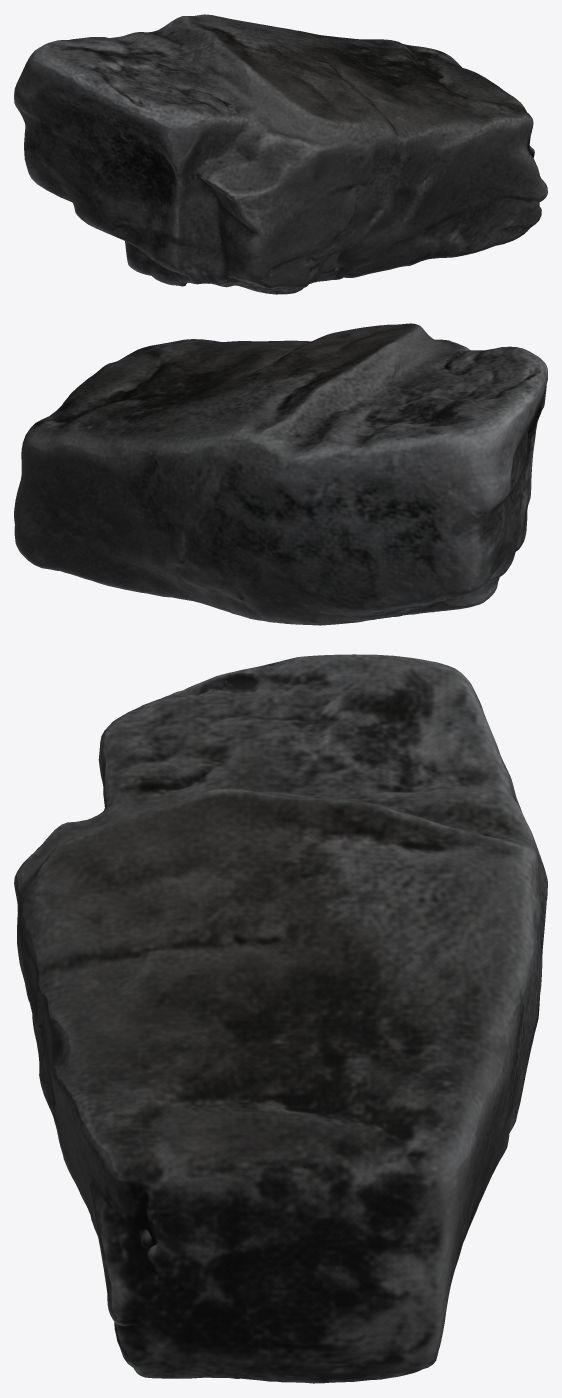
The picture shows the model from 3 angles, top to bottom: view 1: azimuth 30°, elevation 25°; view 2: azimuth 150°, elevation 25°; view 3: azimuth 270°, elevation 25°; orthographic projection. The views are drawn at different scales.
Parts seen in each view (by area): view 1: world; view 2: world; view 3: world.
Part boxes in pixels (left/top/right/bottom): world: left=14, top=14, right=547, bottom=294; world: left=14, top=323, right=547, bottom=625; world: left=14, top=654, right=547, bottom=1383.
Bounding box in the file's own units: 3.5 × 1.75 × 2.15.
Materials: 1 (1 with a texture image).
